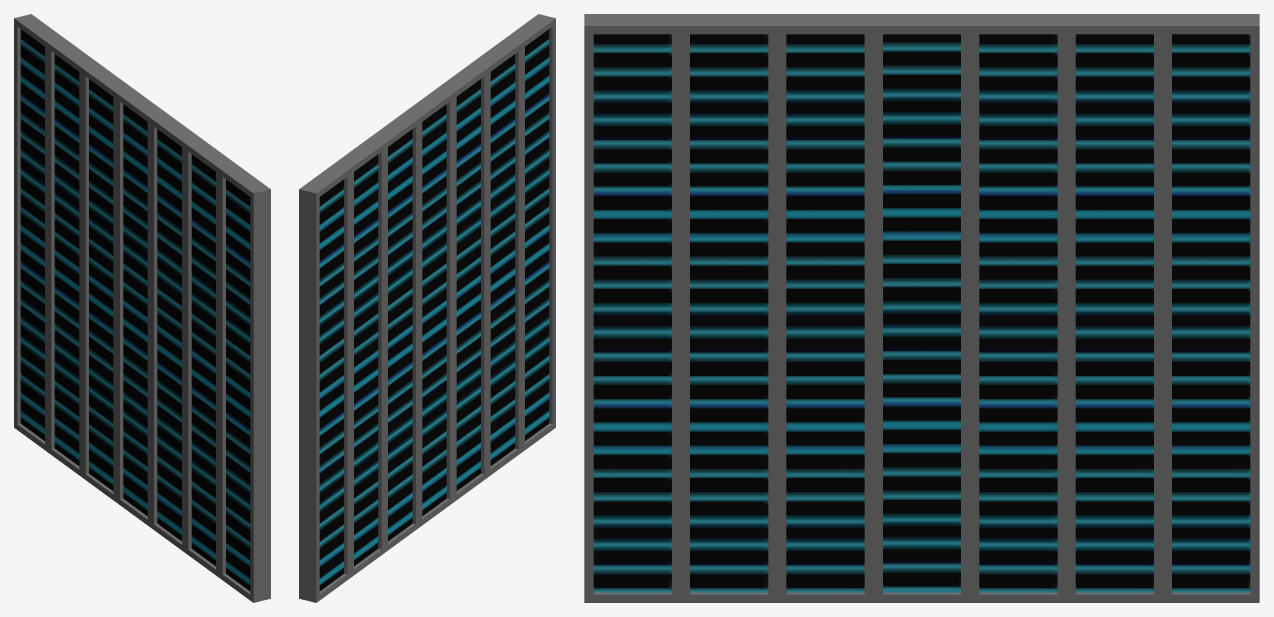
File: SM_B2_Wall2_SM_B2_D2.fbx
3 renders of one model, left to right at view 1: azimuth 30°, elevation 25°; view 2: azimuth 150°, elevation 25°; view 3: azimuth 270°, elevation 25°, orthographic. The views are drawn at different scales.
Visible parts, largest first — view 1: SM_B2_Wall2_SM_B2_D2; view 2: SM_B2_Wall2_SM_B2_D2; view 3: SM_B2_Wall2_SM_B2_D2.
Boxes of the visible parts, <box> form: SM_B2_Wall2_SM_B2_D2: <box>14,14,270,602</box>; SM_B2_Wall2_SM_B2_D2: <box>299,14,555,602</box>; SM_B2_Wall2_SM_B2_D2: <box>584,14,1259,602</box>.
Size of the model in its own units: 10.77 by 257 by 242.
1 material, 1 textured.
